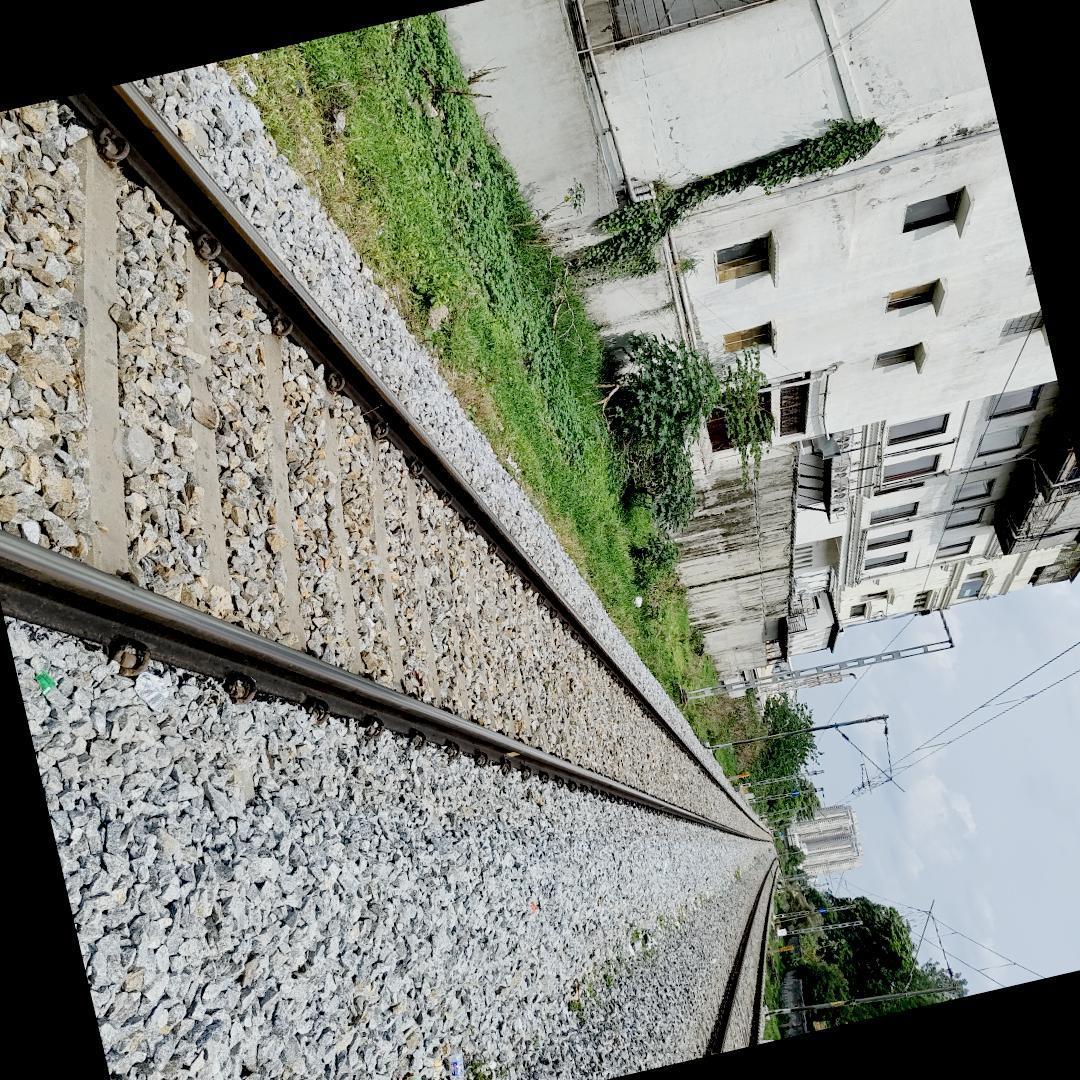track: (0, 78, 777, 844)
